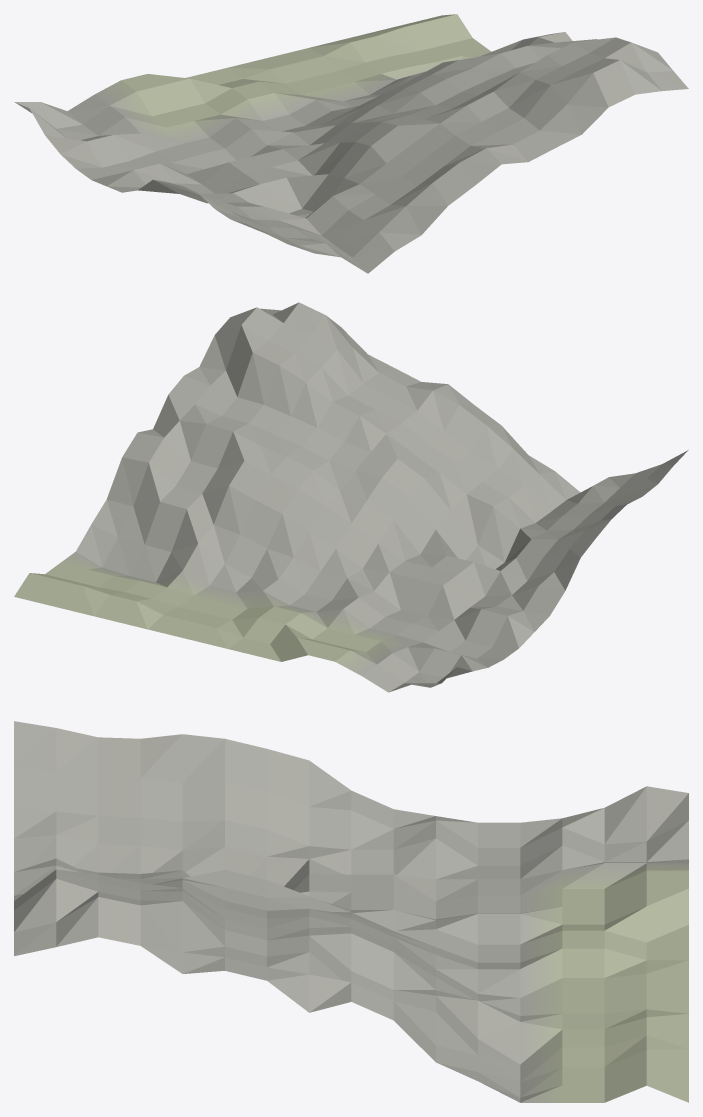
The picture shows the model from 3 angles, top to bottom: view 1: azimuth 30°, elevation 25°; view 2: azimuth 150°, elevation 25°; view 3: azimuth 270°, elevation 25°; orthographic projection. The views are drawn at different scales.
Bounding box in the file's own units: 32 × 10.69 × 32.
